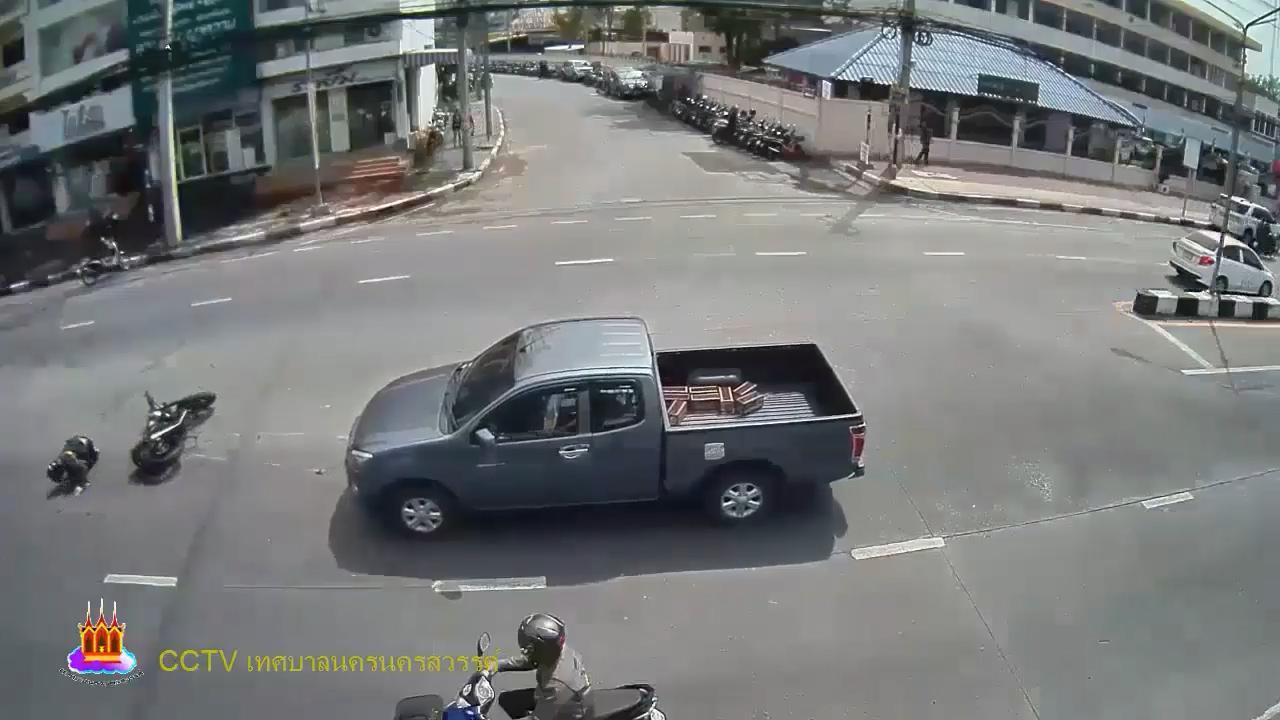accident: (45, 433, 104, 498)
